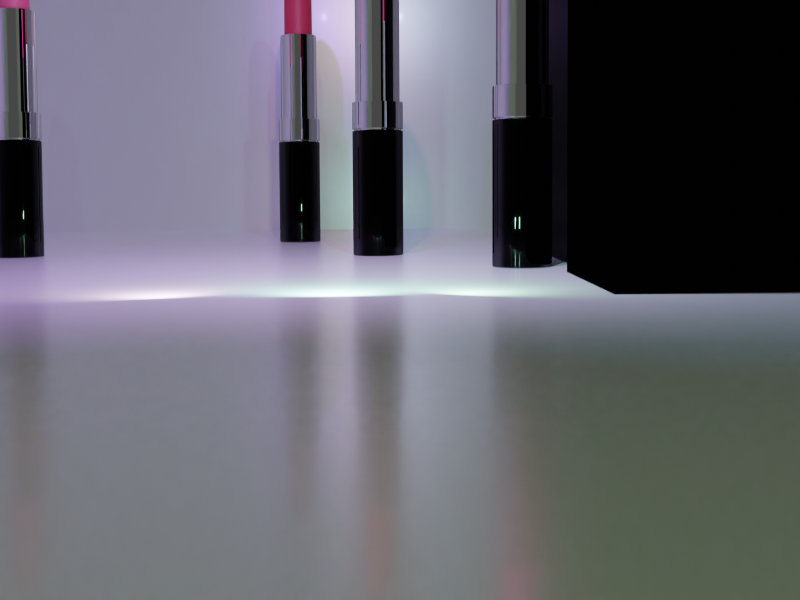lipstick: (486, 1, 558, 266), (349, 1, 407, 260), (274, 1, 324, 246), (1, 1, 40, 261)
